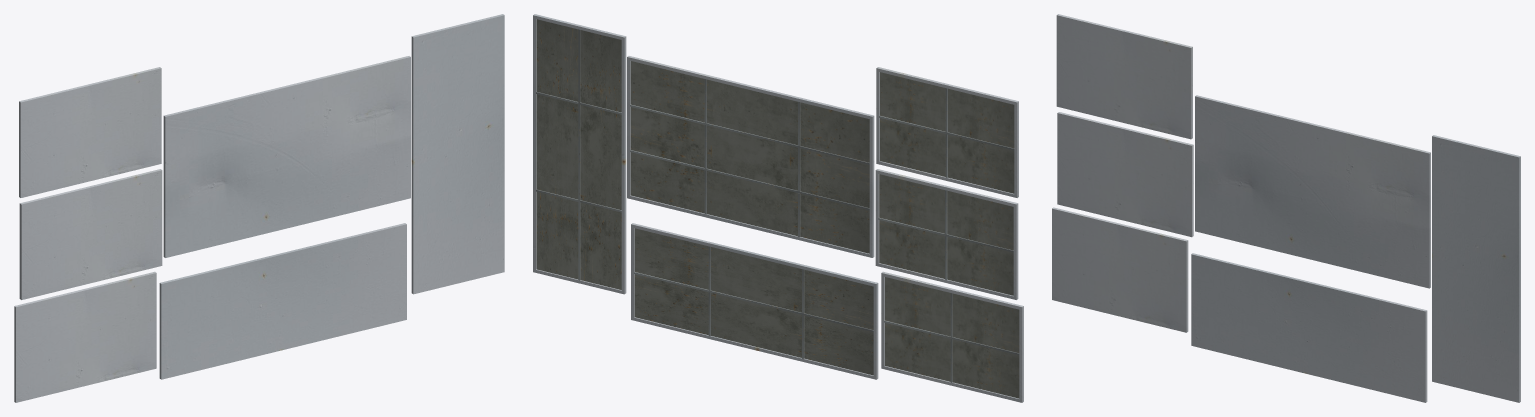
The model's file is signboardblank_set2.fbx.
3 renders of one model, left to right at view 1: azimuth 30°, elevation 25°; view 2: azimuth 150°, elevation 25°; view 3: azimuth 330°, elevation 25°, orthographic. The views are drawn at different scales.
Visible parts, largest first — view 1: signboardblank_set2; view 2: signboardblank_set2; view 3: signboardblank_set2.
Boxes of the visible parts, box(x1,y1,x2,y2) form: signboardblank_set2: box(14, 14, 504, 402); signboardblank_set2: box(533, 14, 1023, 402); signboardblank_set2: box(1052, 14, 1520, 402).
Size of the model in its own units: 468 by 285 by 2.91.
